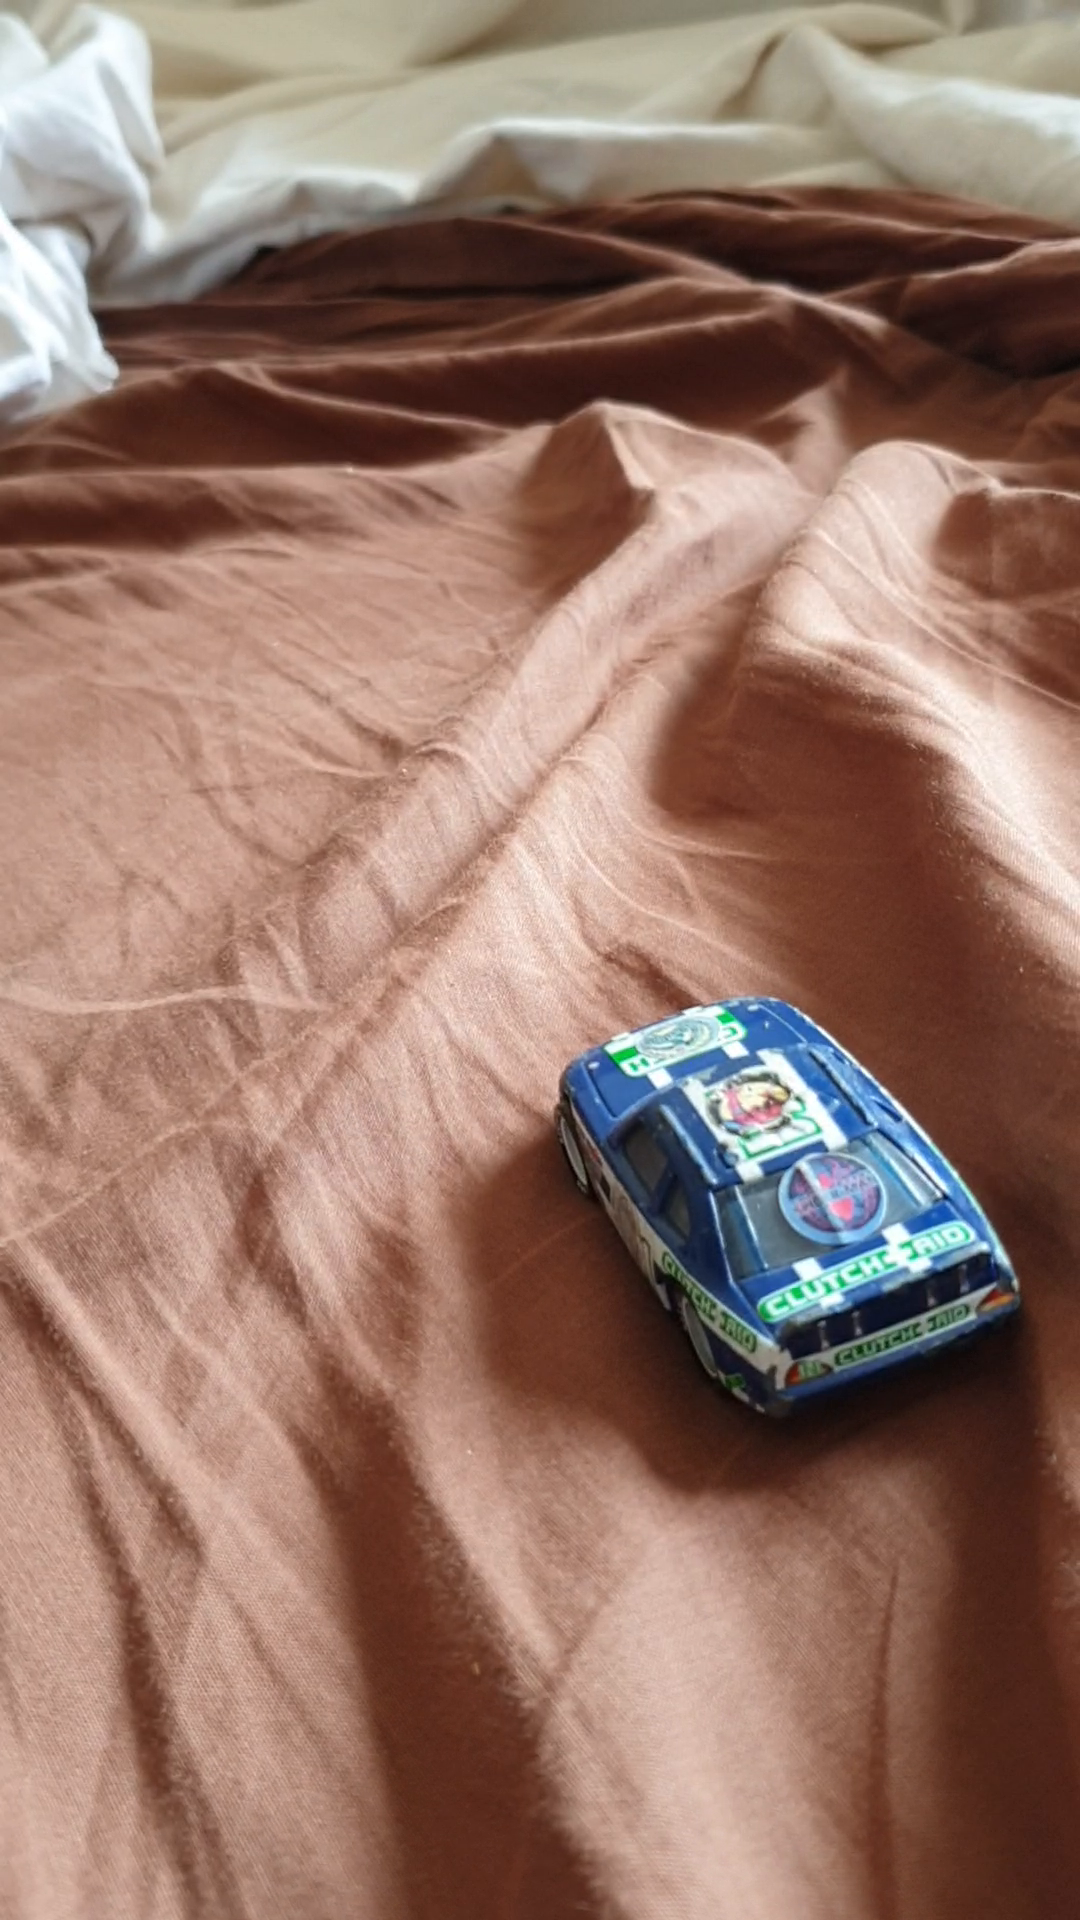cars: (537, 990, 1027, 1429)
